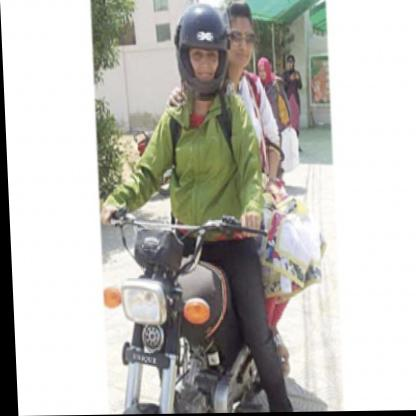With Helmet: (167, 3, 235, 98)
